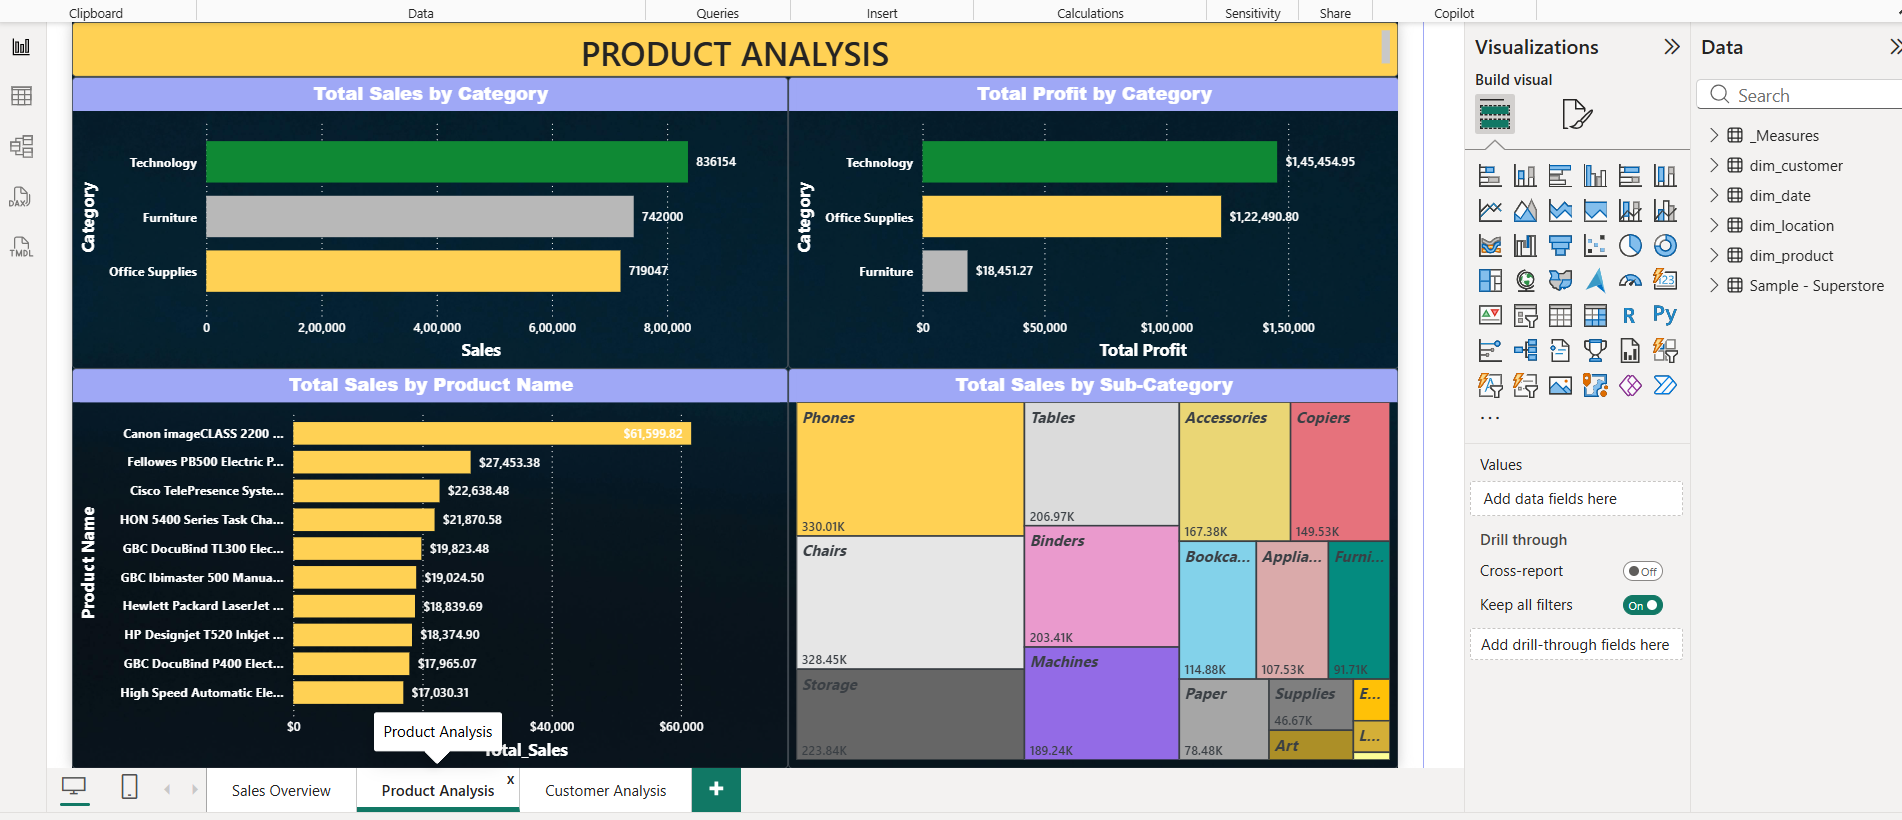

What the dashboard file says about the page in this screenshot:
{"tool":"powerbi","page":{"name":"Product Analysis","canvas":[1280,720],"ordinal":1},"visuals":[{"type":"textbox","box":[0,0,1280,53.1],"z":0},{"type":"clusteredBarChart","title":"Total Sales by Category","fields":{"Category":["dim_product.Category"],"Y":["Sum(Sample - Superstore.Sales)"]},"box":[0,52.6,690.9,281.3],"z":2000},{"type":"clusteredBarChart","fields":{"Category":["dim_product.Category"],"Y":["_Measures.Total Profit"]},"box":[690.9,52.6,589.4,281.3],"z":3000},{"type":"clusteredBarChart","title":"Total Sales by Product Name","fields":{"Category":["dim_product.Product Name"],"Y":["_Measures.Total_Sales"]},"box":[0,334.2,691.3,386.1],"z":4000},{"type":"treemap","title":"Total Sales by Sub-Category","fields":{"Group":["dim_product.Sub-Category"],"Values":["Sum(Sample - Superstore.Sales)"]},"box":[691.3,334.2,588.7,386.1],"z":5000}]}

Visuals, with their boxes on the page's 1280x720 design canvas (x1, y1, x2, y2). These are canvas units, not pixel positions in the 1902x820 screenshot, which may show the page scaled, cropped or inside an application window:
textbox: 0:0:1280:53
"Total Sales by Category" clusteredBarChart: 0:53:691:334
clusteredBarChart - dim_product.Category x _Measures.Total Profit: 691:53:1280:334
"Total Sales by Product Name" clusteredBarChart: 0:334:691:720
"Total Sales by Sub-Category" treemap: 691:334:1280:720
